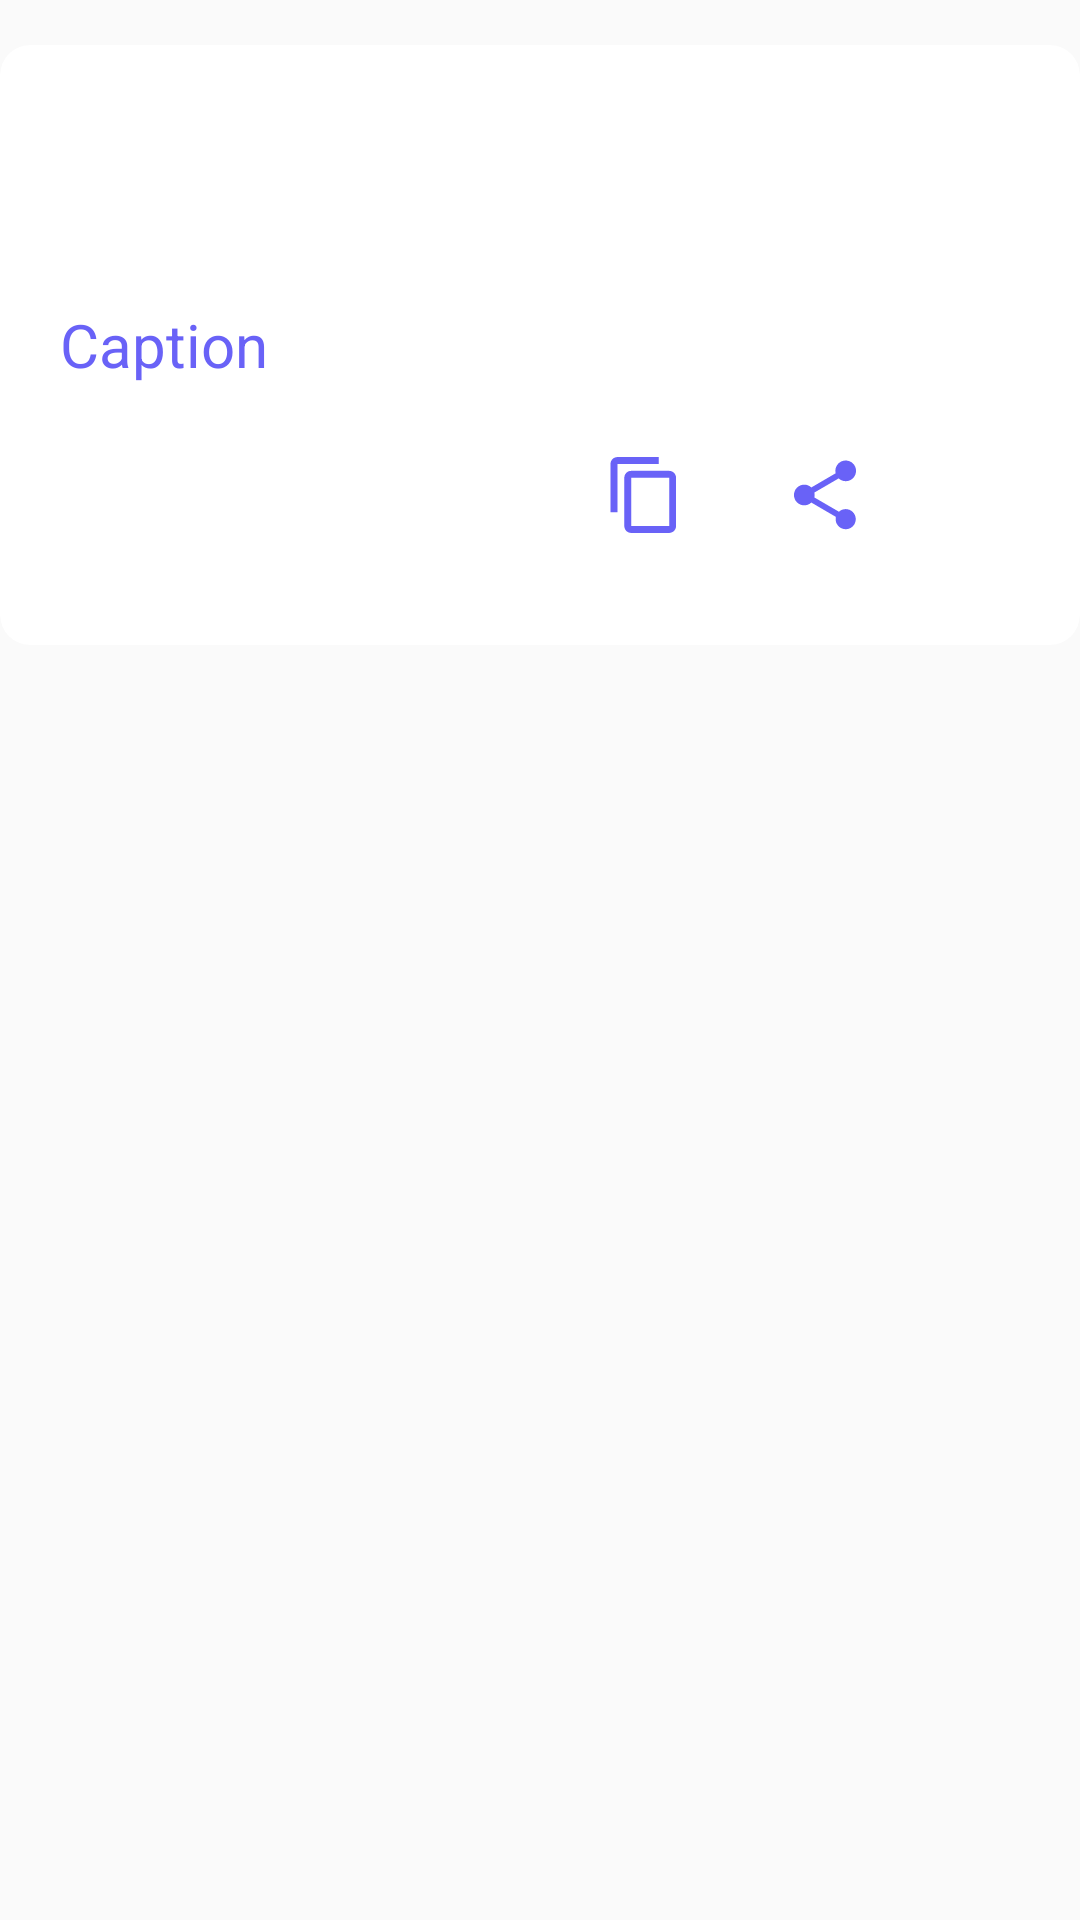

Named icons in this screenshot (1080×1920) and their bounding boxes, detection(x1, y1, x2, y2):
share: detection(794, 460, 856, 530)
